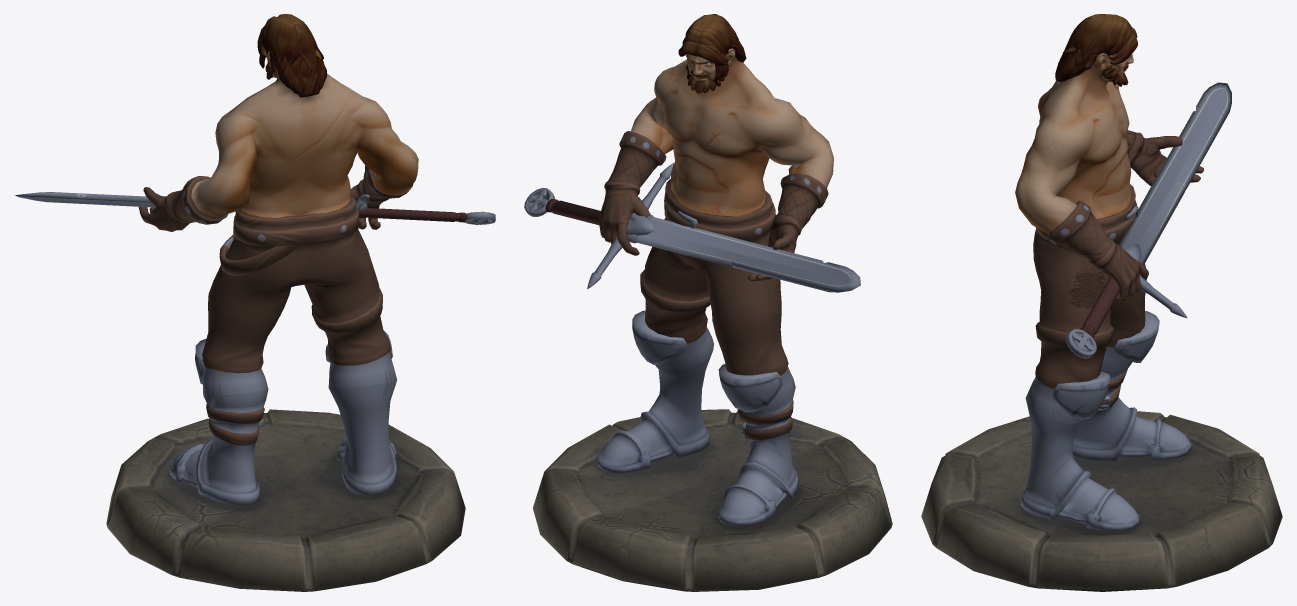
File: DevilHunterPose.fbx
The picture shows the model from 3 angles, left to right: view 1: azimuth 30°, elevation 25°; view 2: azimuth 150°, elevation 25°; view 3: azimuth 270°, elevation 25°; orthographic projection.
Parts seen in each view (by area): view 1: devilhunter, base_L, grip_L.001; view 2: devilhunter, base_L, grip_L.001; view 3: devilhunter, base_L, grip_L.001.
Part boxes in pixels (x1=…): devilhunter: x1=138, y1=14, x2=418, y2=505; base_L: x1=106, y1=409, x2=465, y2=591; grip_L.001: x1=15, y1=192, x2=495, y2=225; devilhunter: x1=598, y1=14, x2=833, y2=526; base_L: x1=533, y1=409, x2=892, y2=591; grip_L.001: x1=524, y1=163, x2=860, y2=292; devilhunter: x1=1015, y1=14, x2=1203, y2=531; base_L: x1=921, y1=411, x2=1282, y2=591; grip_L.001: x1=1066, y1=82, x2=1231, y2=358.
Bounding box in the file's own units: 302 × 352 × 230.
